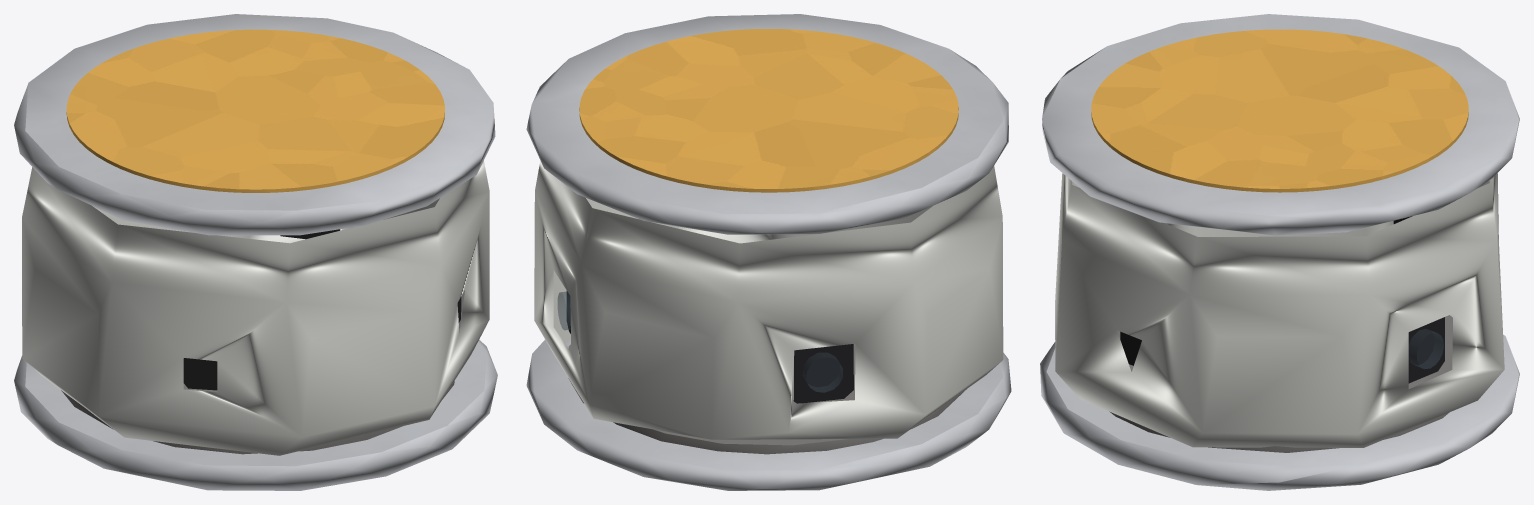
Rendered from ax_cmd_09_probe_core.glb.
3 views of the same model, side by side, from view 1: azimuth 30°, elevation 25°; view 2: azimuth 150°, elevation 25°; view 3: azimuth 270°, elevation 25° (orthographic).
Visible parts, largest first — view 1: shell, interface_rings, mli_top_disc, sensor_liners, decks; view 2: shell, interface_rings, mli_top_disc, decks, sensor_liners, star_tracker_lenses; view 3: shell, interface_rings, mli_top_disc, sensor_liners, decks, star_tracker_lenses.
Part boxes in pixels (x1=…): shell: x1=22, y1=160, x2=489, y2=455; interface_rings: x1=14, y1=14, x2=497, y2=490; mli_top_disc: x1=66, y1=29, x2=444, y2=192; sensor_liners: x1=183, y1=229, x2=461, y2=390; decks: x1=61, y1=381, x2=454, y2=454; shell: x1=534, y1=160, x2=1003, y2=439; interface_rings: x1=526, y1=14, x2=1011, y2=490; mli_top_disc: x1=579, y1=29, x2=958, y2=192; decks: x1=568, y1=343, x2=966, y2=454; sensor_liners: x1=566, y1=291, x2=853, y2=403; star_tracker_lenses: x1=557, y1=291, x2=842, y2=392; shell: x1=1055, y1=173, x2=1504, y2=447; interface_rings: x1=1040, y1=14, x2=1519, y2=490; mli_top_disc: x1=1091, y1=29, x2=1468, y2=192; sensor_liners: x1=1120, y1=216, x2=1444, y2=383; decks: x1=1109, y1=315, x2=1452, y2=452; star_tracker_lenses: x1=1409, y1=329, x2=1443, y2=368.
Bounding box in the file's own units: 0.6268 × 0.405 × 0.6224.
Materials: 6 (3 with a texture image).
